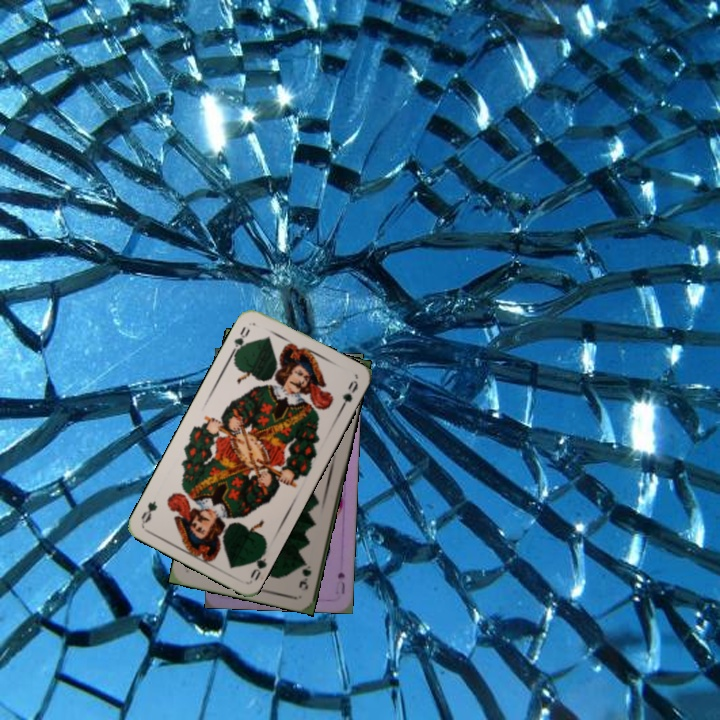G9: (295, 557, 314, 592)
GO: (227, 322, 253, 359), (246, 544, 269, 583)
SU: (332, 568, 348, 597)
